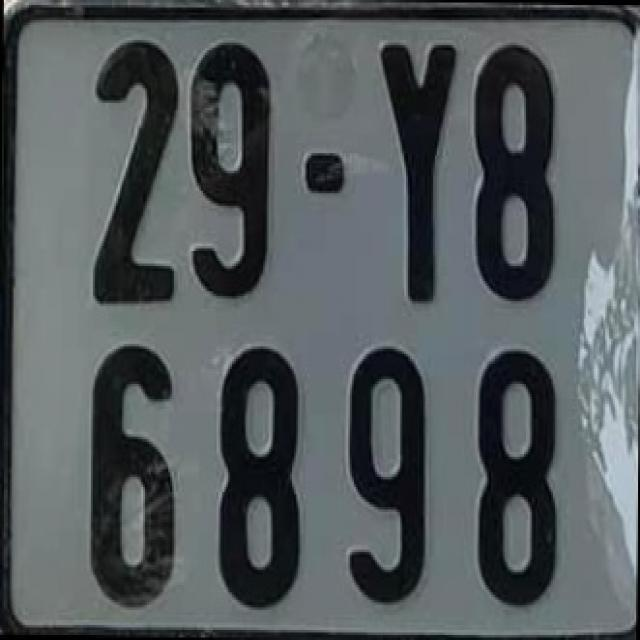2: (81, 30, 184, 311)
6: (81, 336, 182, 605)
8: (208, 334, 310, 610), (468, 336, 566, 610), (470, 32, 563, 304)
9: (182, 32, 280, 304), (338, 337, 435, 608)
Y: (379, 30, 460, 304)
